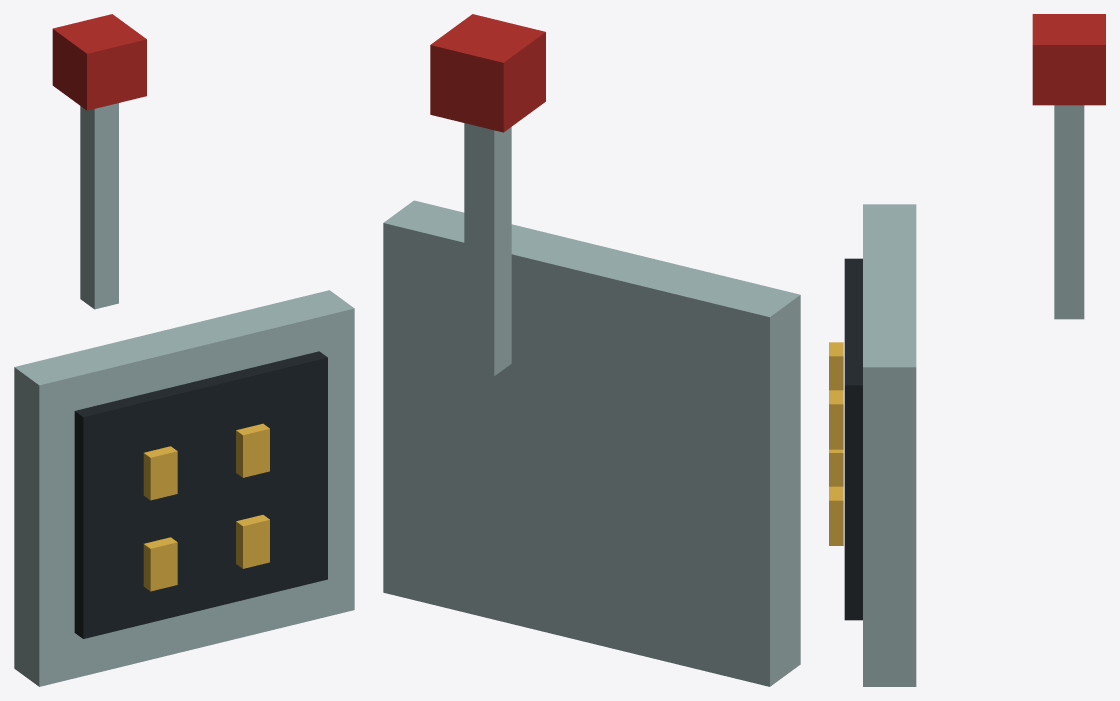
The model's file is robot_visor.glb.
3 renders of one model, left to right at view 1: azimuth 30°, elevation 25°; view 2: azimuth 150°, elevation 25°; view 3: azimuth 270°, elevation 25°, orthographic. The views are drawn at different scales.
Parts seen in each view (by area): view 1: robot_visor; view 2: robot_visor; view 3: robot_visor.
Part boxes in pixels (x1,y1,x2,y2): robot_visor: (14, 14, 354, 686); robot_visor: (383, 14, 800, 686); robot_visor: (829, 14, 1105, 686).
Size of the model in its own units: 0.58 by 0.955 by 0.416.
